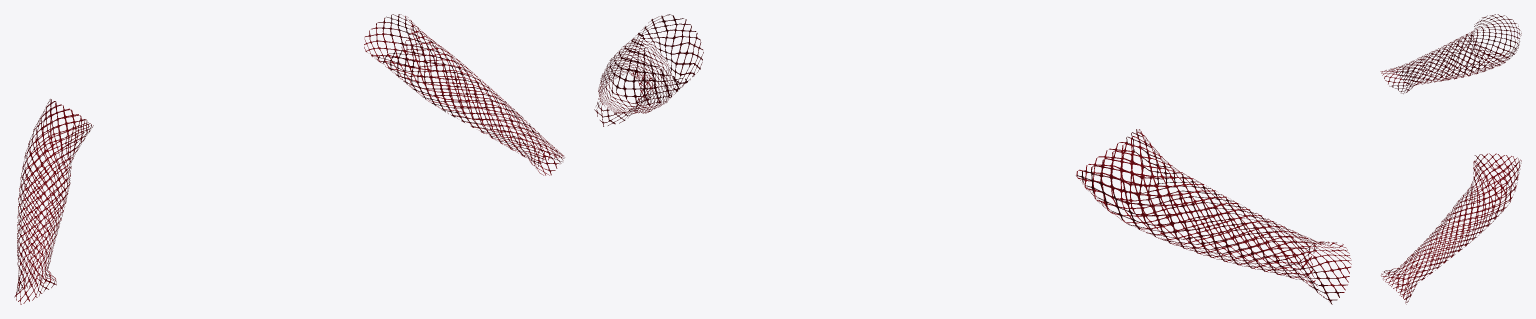
Rendered from mhw_marco_105_armsleeve02.glb.
3 renders of one model, left to right at view 1: azimuth 30°, elevation 25°; view 2: azimuth 150°, elevation 25°; view 3: azimuth 270°, elevation 25°, orthographic. The views are drawn at different scales.
Visible parts, largest first — view 1: mhw_marco_105_armsleeve02; view 2: mhw_marco_105_armsleeve02; view 3: mhw_marco_105_armsleeve02.
Part boxes in pixels (x1,y1,x2,y2): mhw_marco_105_armsleeve02: (14,14,564,304); mhw_marco_105_armsleeve02: (594,14,1351,304); mhw_marco_105_armsleeve02: (1380,14,1521,304).
Size of the model in its own units: 1.13 by 0.2792 by 0.3107.
Materials: 1 (1 with a texture image).
